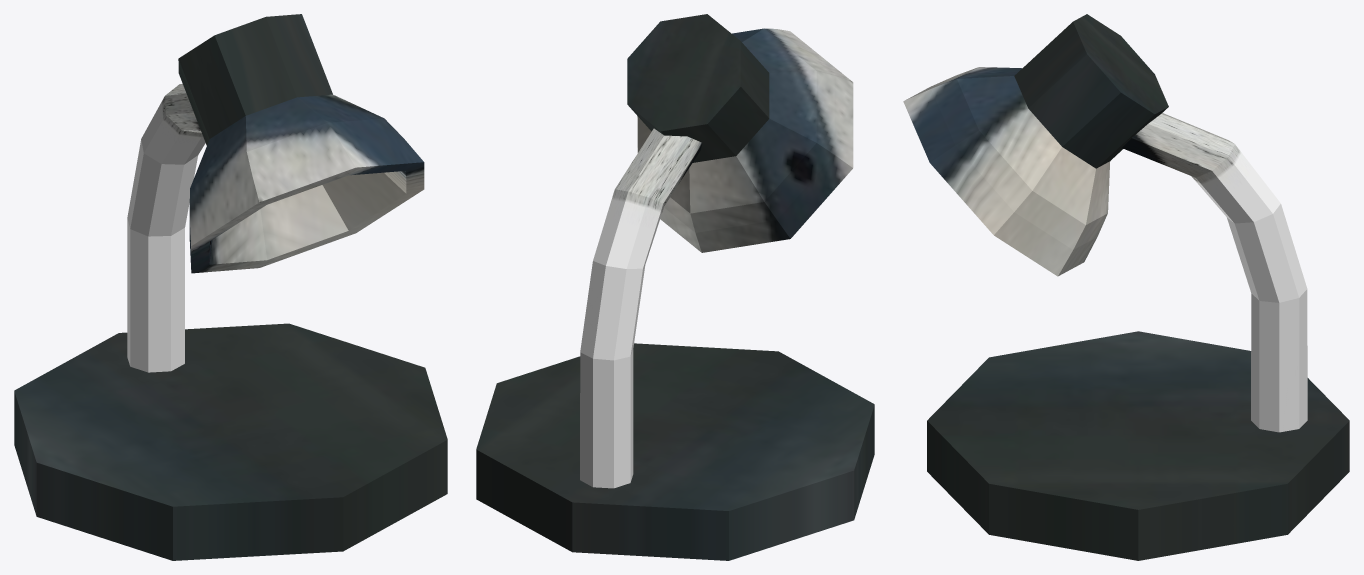
Rendered from desk_lamp.fbx.
3 renders of one model, left to right at view 1: azimuth 30°, elevation 25°; view 2: azimuth 150°, elevation 25°; view 3: azimuth 270°, elevation 25°, orthographic. The views are drawn at different scales.
Visible parts, largest first — view 1: Cylinder; view 2: Cylinder; view 3: Cylinder.
Boxes of the visible parts, left/top/right/bottom form: Cylinder: left=14, top=14, right=447, bottom=560; Cylinder: left=476, top=14, right=874, bottom=560; Cylinder: left=903, top=14, right=1349, bottom=560.
Size of the model in its own units: 30 by 35.25 by 31.7.
